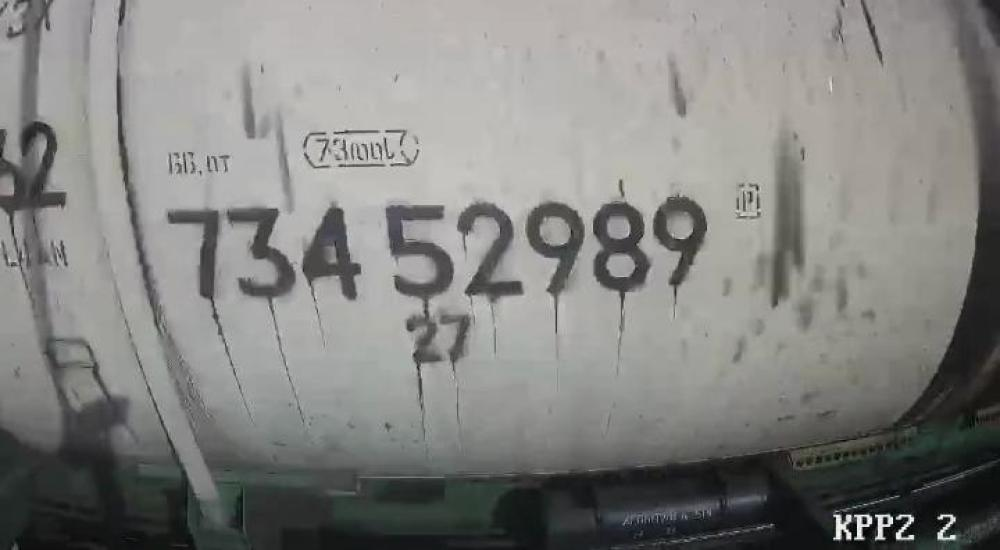Wagon-number: (163, 193, 715, 302)
